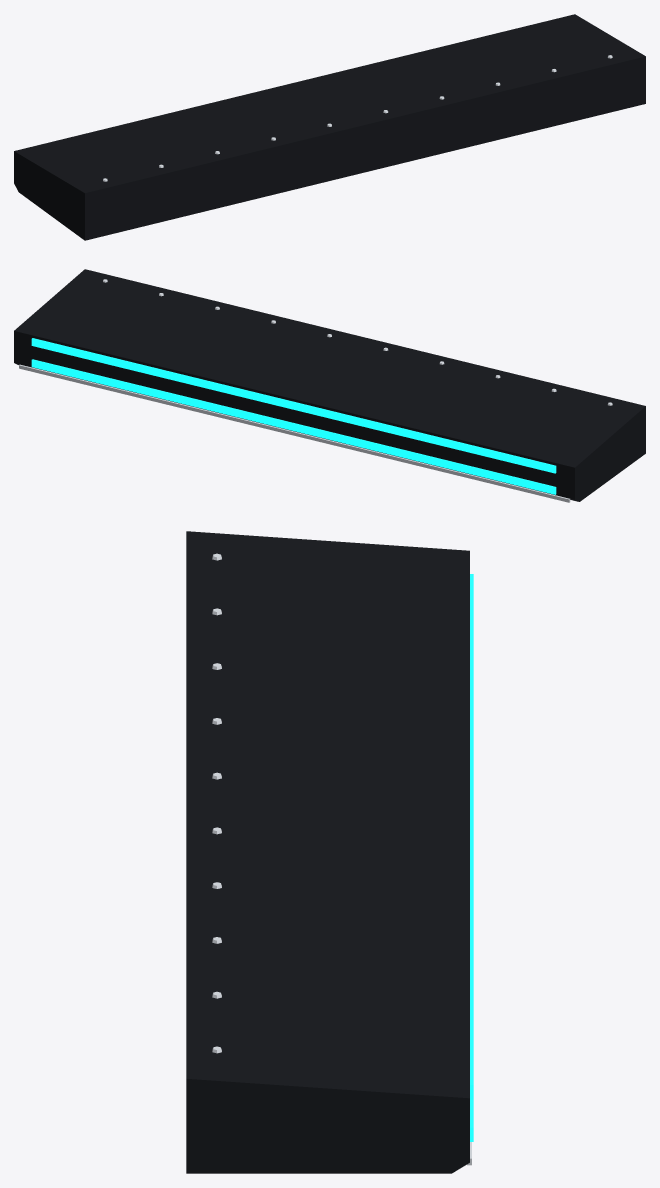
File: visor_twin_line.glb
3 views of the same model, one above another, from view 1: azimuth 30°, elevation 25°; view 2: azimuth 150°, elevation 25°; view 3: azimuth 270°, elevation 25° (orthographic). The views are drawn at different scales.
Visible parts, largest first — view 1: visor_twin_line_deco_body; view 2: visor_twin_line_deco_body, visor_twin_line_deco_neon, visor_twin_line_chrome; view 3: visor_twin_line_deco_body, visor_twin_line_deco_neon.
Boxes of the visible parts, bbox=[...] form: visor_twin_line_deco_body: bbox=[14, 14, 645, 240]; visor_twin_line_deco_body: bbox=[14, 269, 645, 501]; visor_twin_line_deco_neon: bbox=[31, 338, 556, 494]; visor_twin_line_chrome: bbox=[19, 279, 612, 502]; visor_twin_line_deco_body: bbox=[186, 531, 469, 1173]; visor_twin_line_deco_neon: bbox=[470, 574, 473, 1141].
Bounding box in the file's own units: 2.1 × 0.1755 × 0.466.
